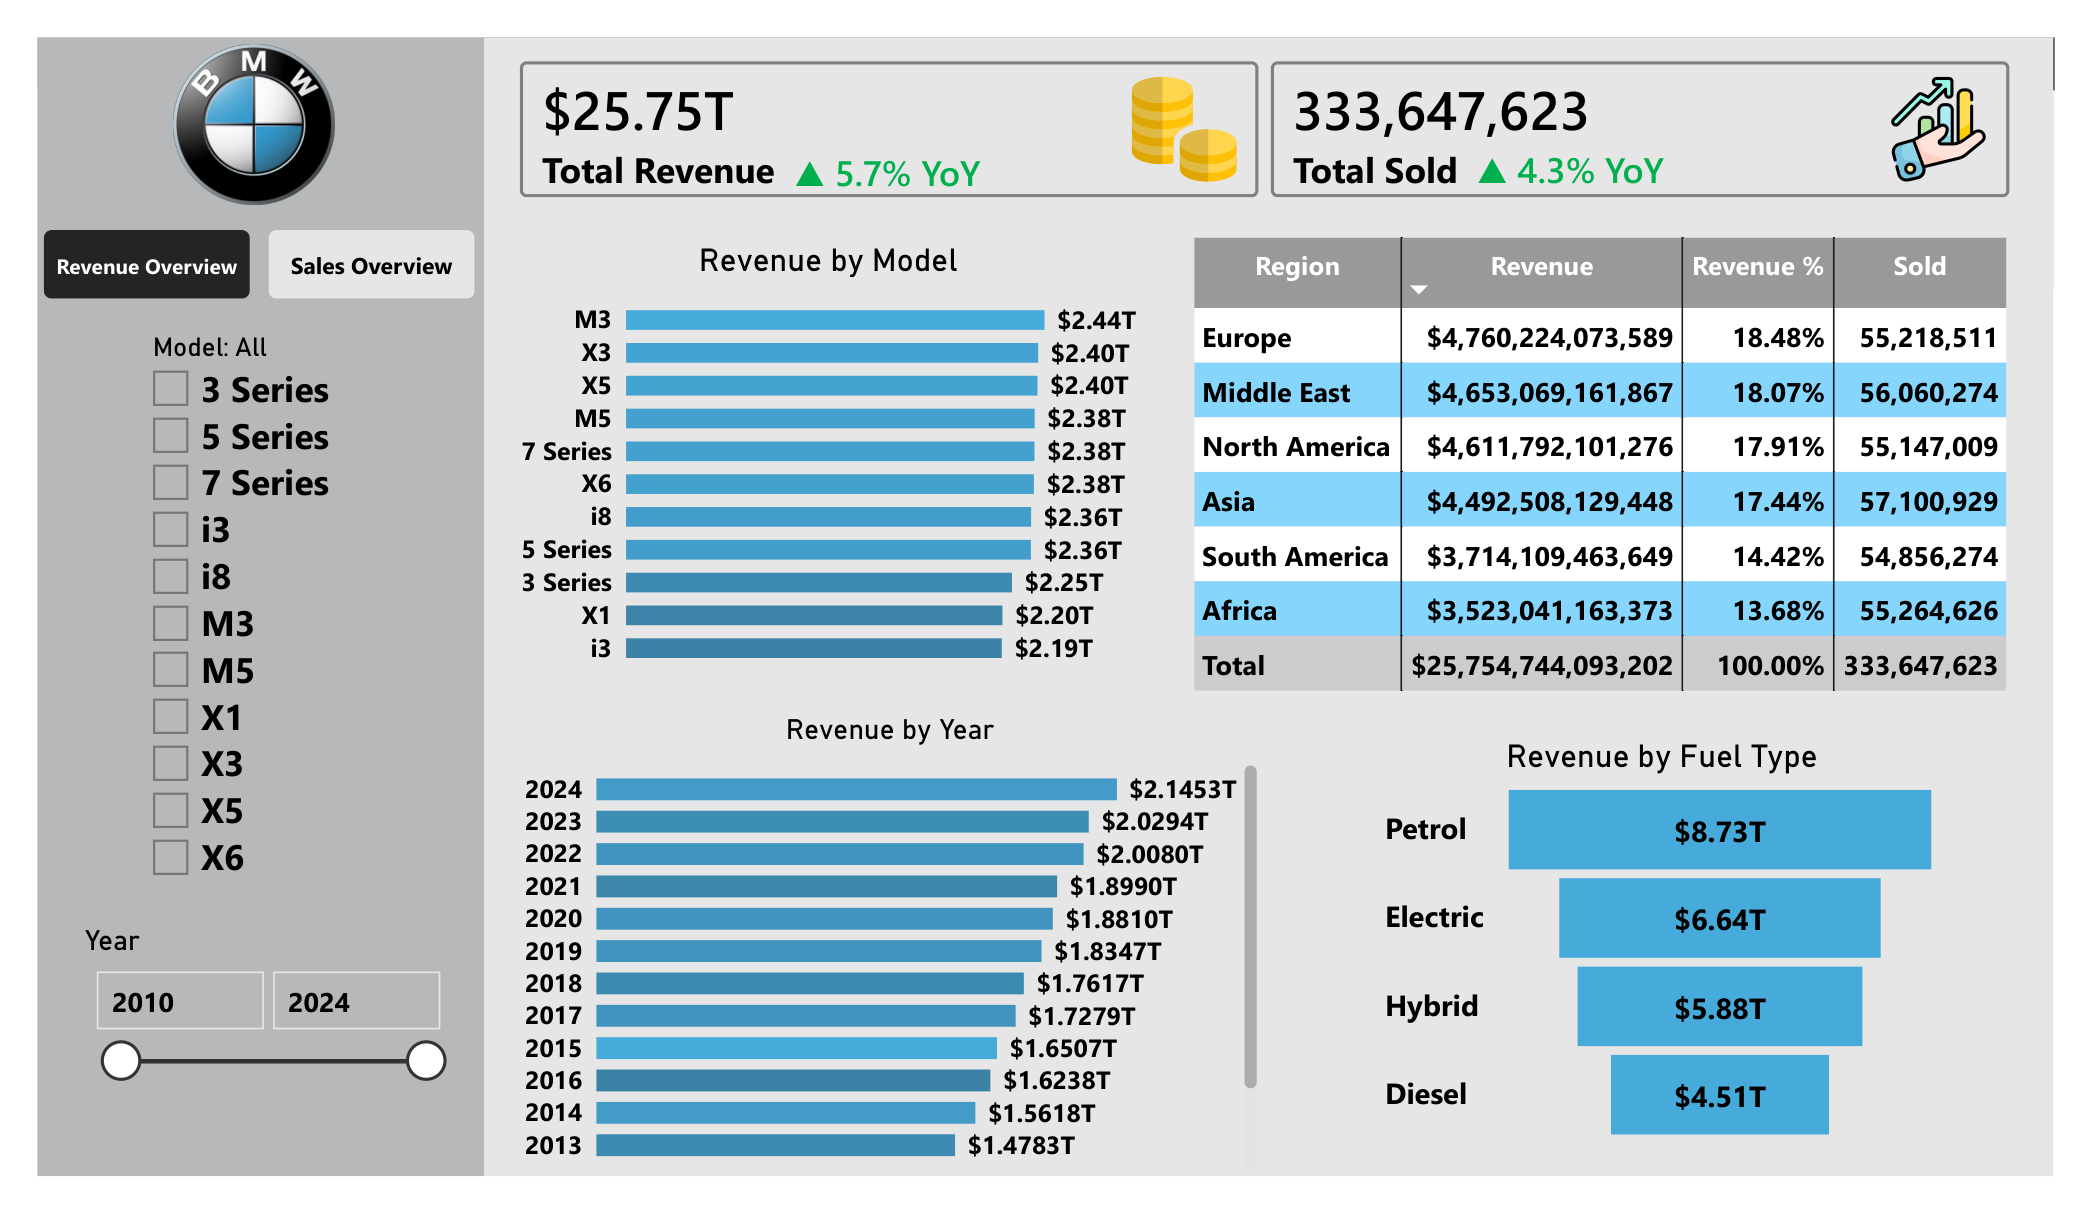

The page's visual inventory and layout, read from the dashboard file:
{"tool":"powerbi","page":{"name":"Revenue Overview","canvas":[1291,729],"ordinal":0},"visuals":[{"type":"shape","box":[0,0,285.7,728.6],"z":0},{"type":"funnel","title":"Revenue by Fuel Type","fields":{"Category":["bmw_sales_data_2010_2024.Fuel_Type"],"Y":["bmw_sales_data_2010_2024.Total Revenue"]},"box":[858.2,447.7,364.5,265.5],"z":1000},{"type":"clusteredBarChart","title":"Revenue by Model","fields":{"Y":["bmw_sales_data_2010_2024.Total Revenue"],"Category":["bmw_sales_data_2010_2024.Model"]},"box":[304.3,130,404.3,281.4],"z":2000},{"type":"image","box":[67.1,4.3,141.4,102.9],"z":3000},{"type":"slicer","title":"Year","fields":{"Values":["bmw_sales_data_2010_2024.Year"]},"box":[24.8,567.2,244.9,140],"z":4000},{"type":"tableEx","fields":{"Values":["bmw_sales_data_2010_2024.Region","bmw_sales_data_2010_2024.Total Revenue","Divide(bmw_sales_data_2010_2024.Total Revenue, ScopedEval(bmw_sales_data_2010_2024.Total Revenue, []))","Sum(bmw_sales_data_2010_2024.Sales_Volume)"]},"box":[734.7,123.4,533.8,308.5],"z":5000},{"type":"cardVisual","fields":{"Data":["bmw_sales_data_2010_2024.Total Revenue","Sum(bmw_sales_data_2010_2024.Sales_Volume)"]},"box":[304.3,10,964.3,97.1],"z":6000},{"type":"cardVisual","fields":{"Data":["bmw_sales_data_2010_2024.Revenue Trend Text"]},"box":[456.3,56,212.4,57.4],"z":7000},{"type":"cardVisual","fields":{"Data":["bmw_sales_data_2010_2024.Sales Volume Trend Text"]},"box":[892.6,53.1,206.6,58.8],"z":8000},{"type":"image","box":[695.5,24.8,78.7,67.1],"z":9000},{"type":"image","box":[1178.1,24.8,78.7,67.1],"z":10000},{"type":"pageNavigator","box":[4.3,122.9,275.7,44.3],"z":11000},{"type":"slicer","fields":{"Values":["bmw_sales_data_2010_2024.Model"]},"box":[61.4,182.9,171.4,361.4],"z":12000},{"type":"clusteredBarChart","title":"Revenue by Year","fields":{"Category":["bmw_sales_data_2010_2024.Year"],"Y":["bmw_sales_data_2010_2024.Total Revenue"]},"box":[305.7,431.9,480.7,298.5],"z":13000}]}

Visuals, with their boxes on the page's 1291x729 design canvas (x1, y1, x2, y2). These are canvas units, not pixel positions in the 2092x1215 screenshot, which may show the page scaled, cropped or inside an application window:
shape: [0, 0, 286, 729]
"Revenue by Fuel Type" funnel: [858, 448, 1223, 713]
"Revenue by Model" clusteredBarChart: [304, 130, 709, 411]
image: [67, 4, 208, 107]
"Year" slicer: [25, 567, 270, 707]
tableEx - bmw_sales_data_2010_2024.Region x bmw_sales_data_2010_2024.Total Revenue: [735, 123, 1268, 432]
cardVisual - bmw_sales_data_2010_2024.Total Revenue x Sum(bmw_sales_data_2010_2024.Sales_Volume): [304, 10, 1269, 107]
cardVisual - bmw_sales_data_2010_2024.Revenue Trend Text: [456, 56, 669, 113]
cardVisual - bmw_sales_data_2010_2024.Sales Volume Trend Text: [893, 53, 1099, 112]
image: [696, 25, 774, 92]
image: [1178, 25, 1257, 92]
pageNavigator: [4, 123, 280, 167]
slicer - bmw_sales_data_2010_2024.Model: [61, 183, 233, 544]
"Revenue by Year" clusteredBarChart: [306, 432, 786, 730]
